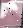dent: (0, 2, 23, 27)
